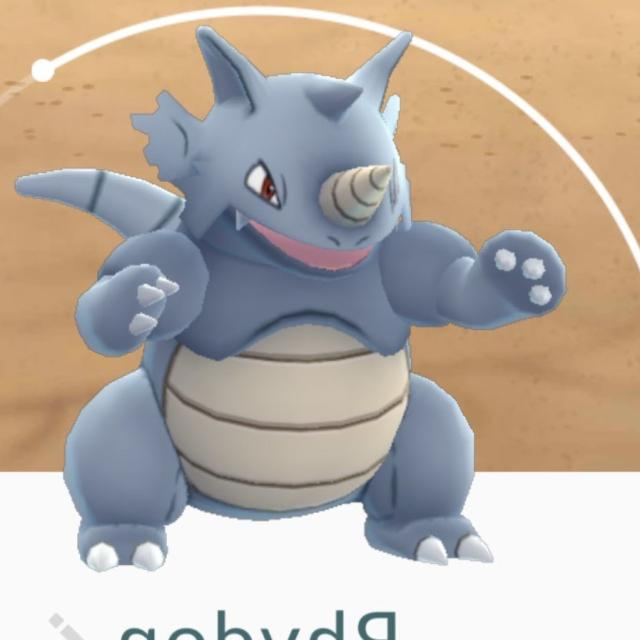Rhydon: (75, 63, 473, 565)
